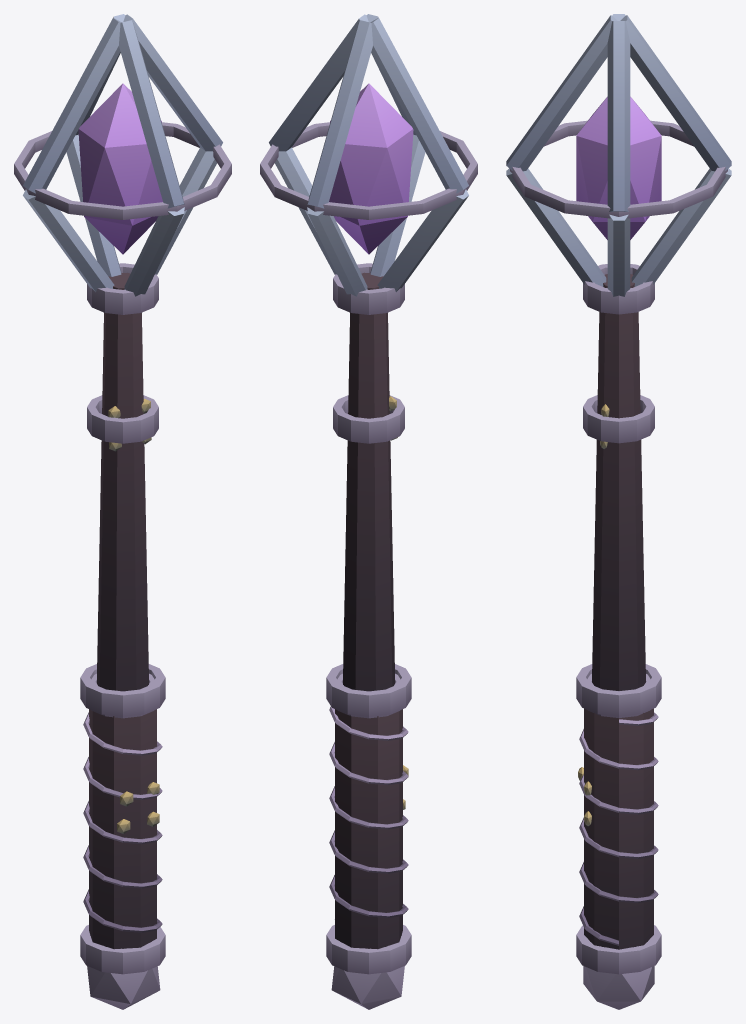
The model's file is varita_estrella_cautiva.glb.
The picture shows the model from 3 angles, left to right: view 1: azimuth 30°, elevation 25°; view 2: azimuth 150°, elevation 25°; view 3: azimuth 270°, elevation 25°; orthographic projection.
Parts seen in each view (by area): view 1: varita_estrella_cautiva_finished; view 2: varita_estrella_cautiva_finished; view 3: varita_estrella_cautiva_finished.
Part boxes in pixels (box(x1,y1,x2,y2)): varita_estrella_cautiva_finished: box(14, 14, 231, 1009); varita_estrella_cautiva_finished: box(260, 14, 477, 1009); varita_estrella_cautiva_finished: box(506, 14, 731, 1009).
Size of the model in its own units: 0.2375 by 1.16 by 0.2375.
Materials: 2 (2 with a texture image).
